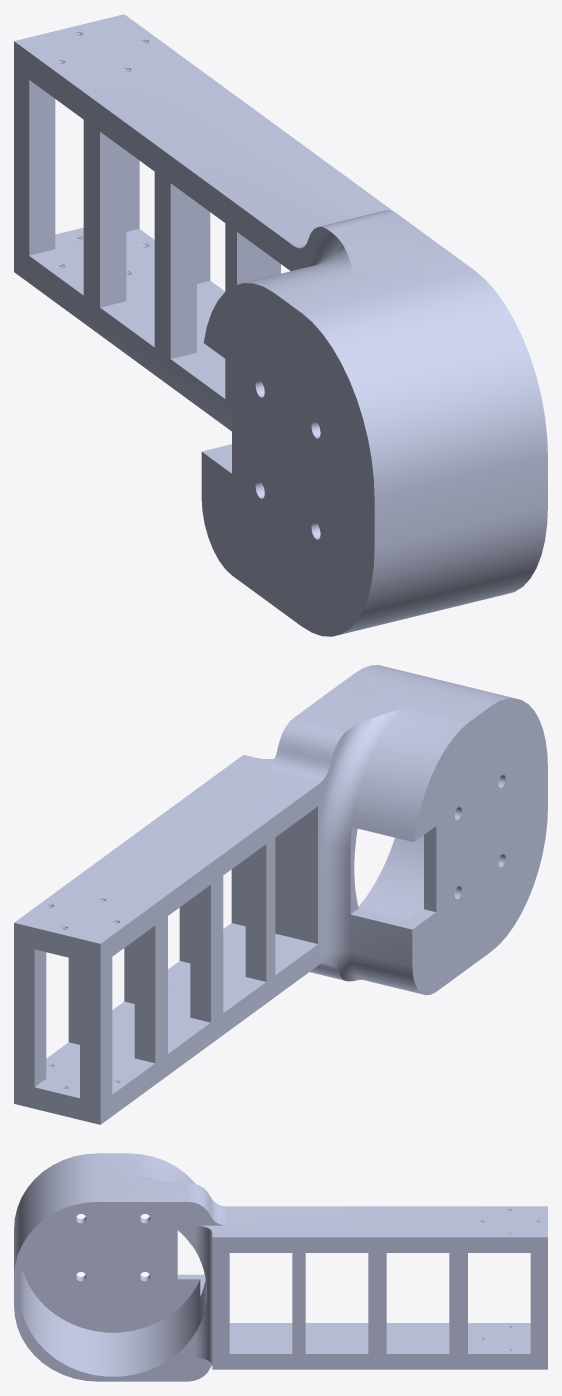
File: c_3_robot_export_clean__knee_motor_bracket_1.dae
3 renders of one model, top to bottom at view 1: azimuth 30°, elevation 25°; view 2: azimuth 150°, elevation 25°; view 3: azimuth 270°, elevation 25°, orthographic. The views are drawn at different scales.
Visible parts, largest first — view 1: node0; view 2: node0; view 3: node0.
Boxes of the visible parts, x1,y1,x2,y2 form: node0: (14,14,547,636); node0: (14,665,547,1124); node0: (14,1153,547,1381).
Size of the model in its own units: 0.041 by 0.057 by 0.1535.
